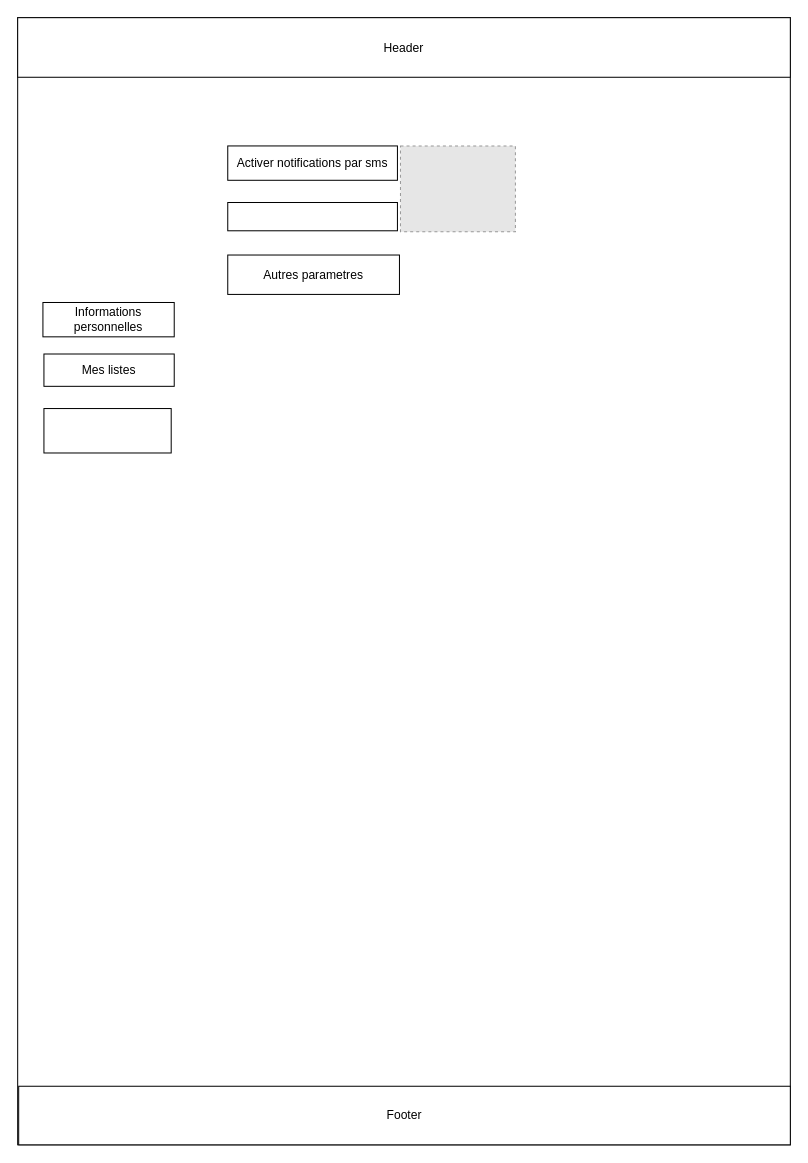
Some shapes in this 808 by 1163 pixel diagram are drawn without their labels. Grey dashed boxes stand in for pictures. The centre of each missing label's shape, as x and y in pixels:
Active notifications par mail: point (312, 216)
Parametres (notifications) (optionel): point (107, 430)
